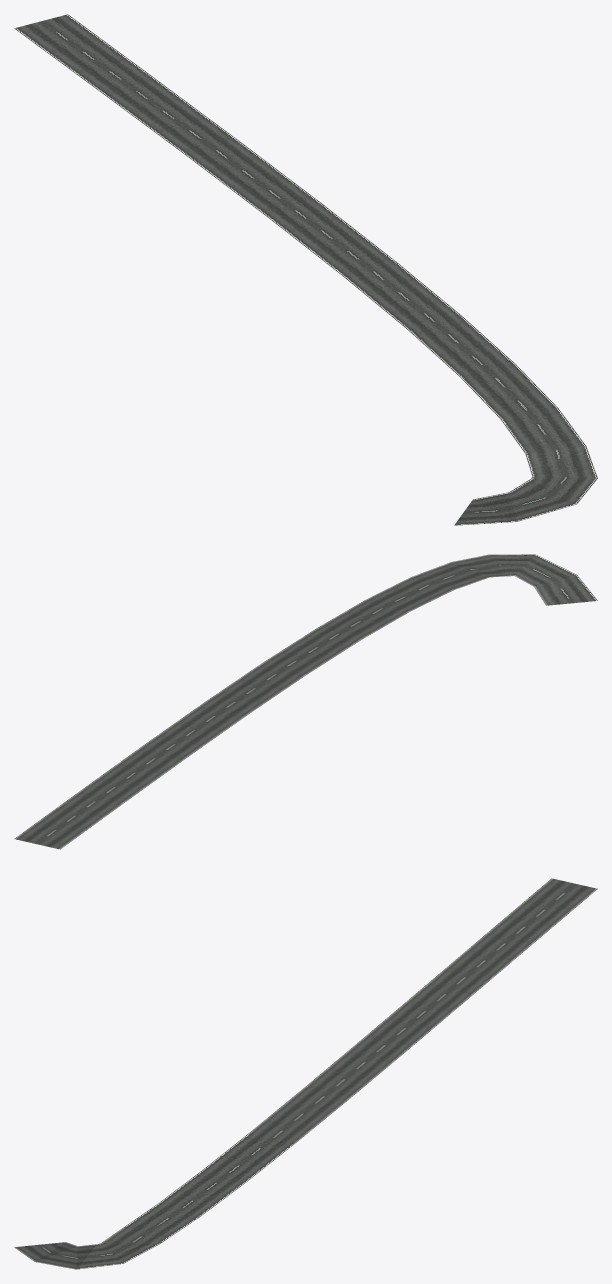
File: lodcuntwroad31.obj
3 views of the same model, one above another, from view 1: azimuth 30°, elevation 25°; view 2: azimuth 150°, elevation 25°; view 3: azimuth 330°, elevation 25° (orthographic). The views are drawn at different scales.
Parts seen in each view (by area): view 1: LODcuntwroad31; view 2: LODcuntwroad31; view 3: LODcuntwroad31.
Boxes of the visible parts, left/top/right/bottom form: LODcuntwroad31: left=14, top=14, right=597, bottom=525; LODcuntwroad31: left=14, top=554, right=597, bottom=849; LODcuntwroad31: left=14, top=878, right=597, bottom=1269.
Size of the model in its own units: 37.95 by 15.15 by 215.
1 material, 1 textured.
